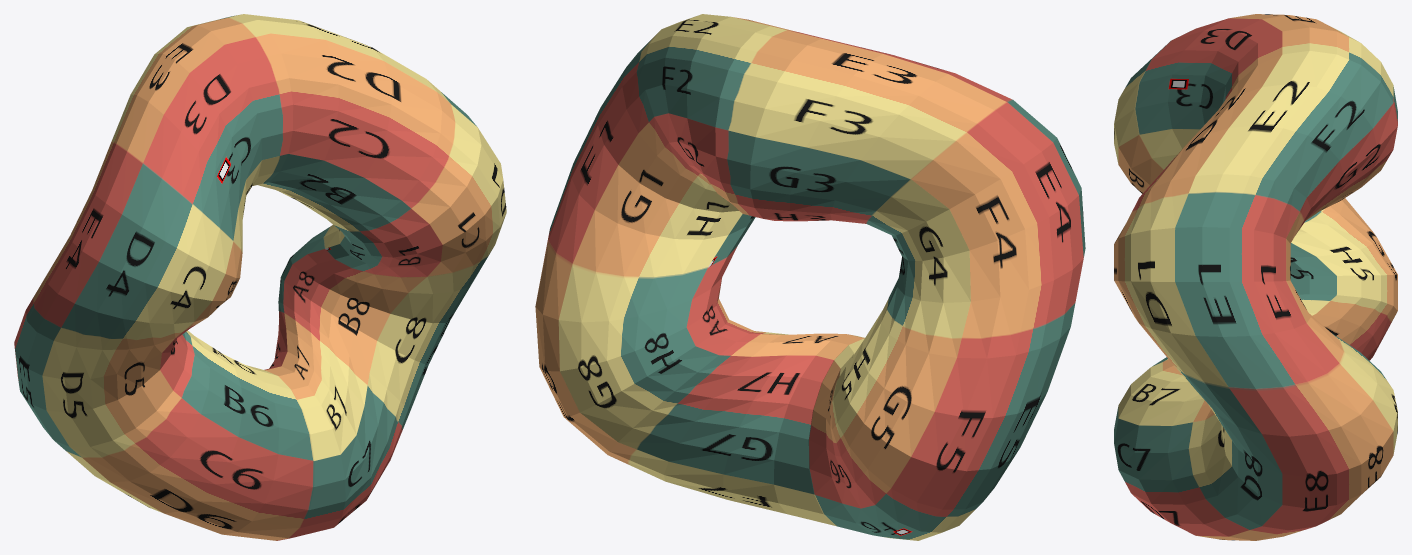
The picture shows the model from 3 angles, left to right: view 1: azimuth 30°, elevation 25°; view 2: azimuth 150°, elevation 25°; view 3: azimuth 270°, elevation 25°; orthographic projection. The views are drawn at different scales.
Parts seen in each view (by area): view 1: Node-Mesh; view 2: Node-Mesh; view 3: Node-Mesh.
Boxes of the visible parts, x1,y1,x2,y2 form: Node-Mesh: [14, 14, 506, 540]; Node-Mesh: [535, 14, 1085, 540]; Node-Mesh: [1114, 14, 1397, 540].
Bounding box in the file's own units: 3 × 2.98 × 1.61.
1 material, 1 textured.
